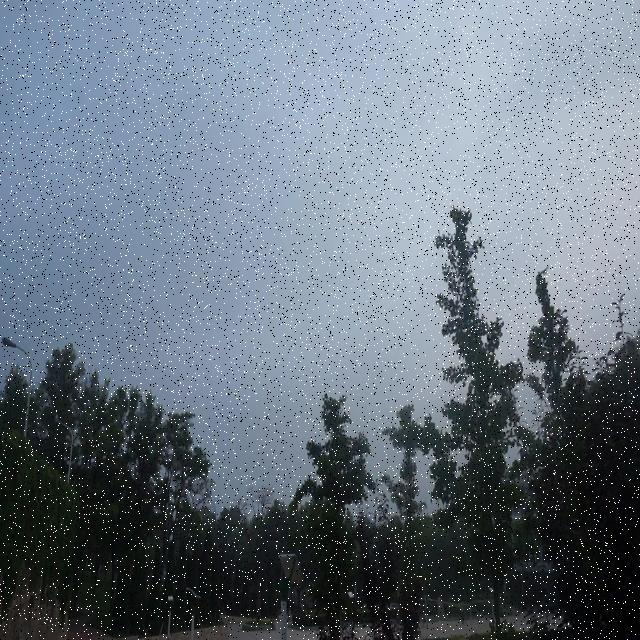UAV: (540, 266, 550, 276)
